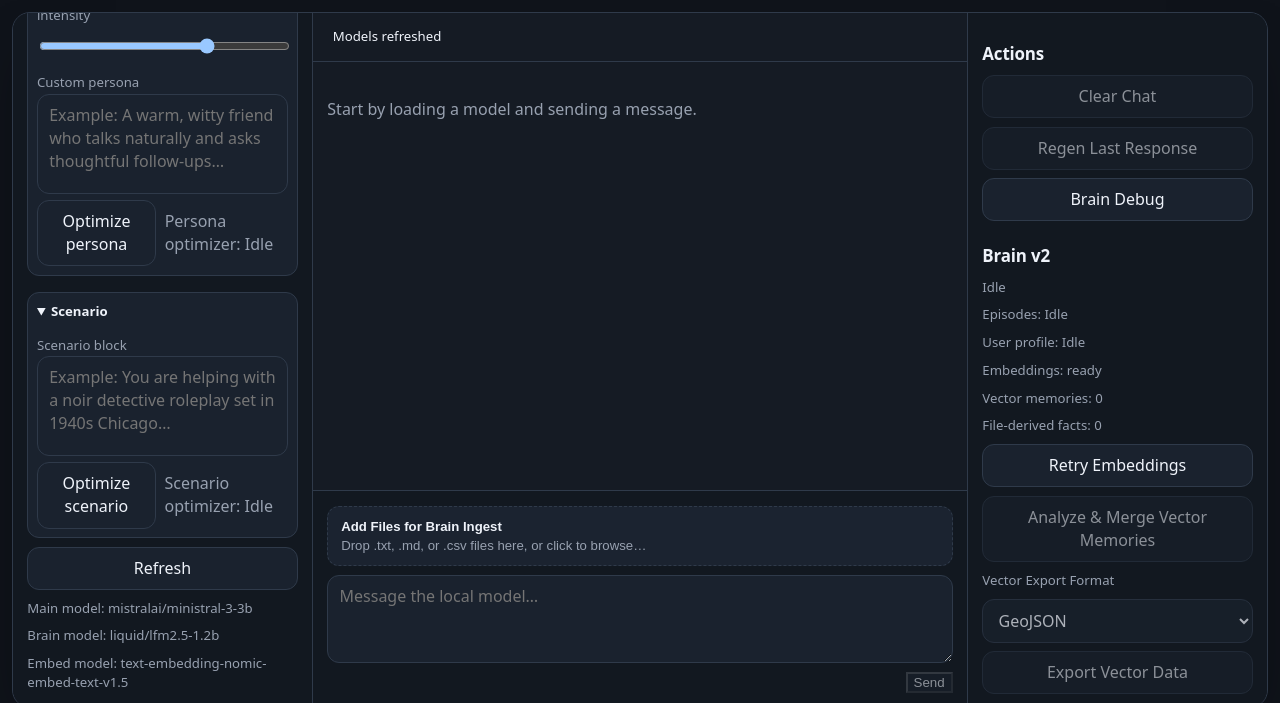
Test case: App › optimizes scenario block and applies accepted preview
(page scrolled)
Step 1. Replace the text in the text box labelled "Scenario block" with "You are in a fantasy tavern." → [163, 406], box [37,356,288,456]
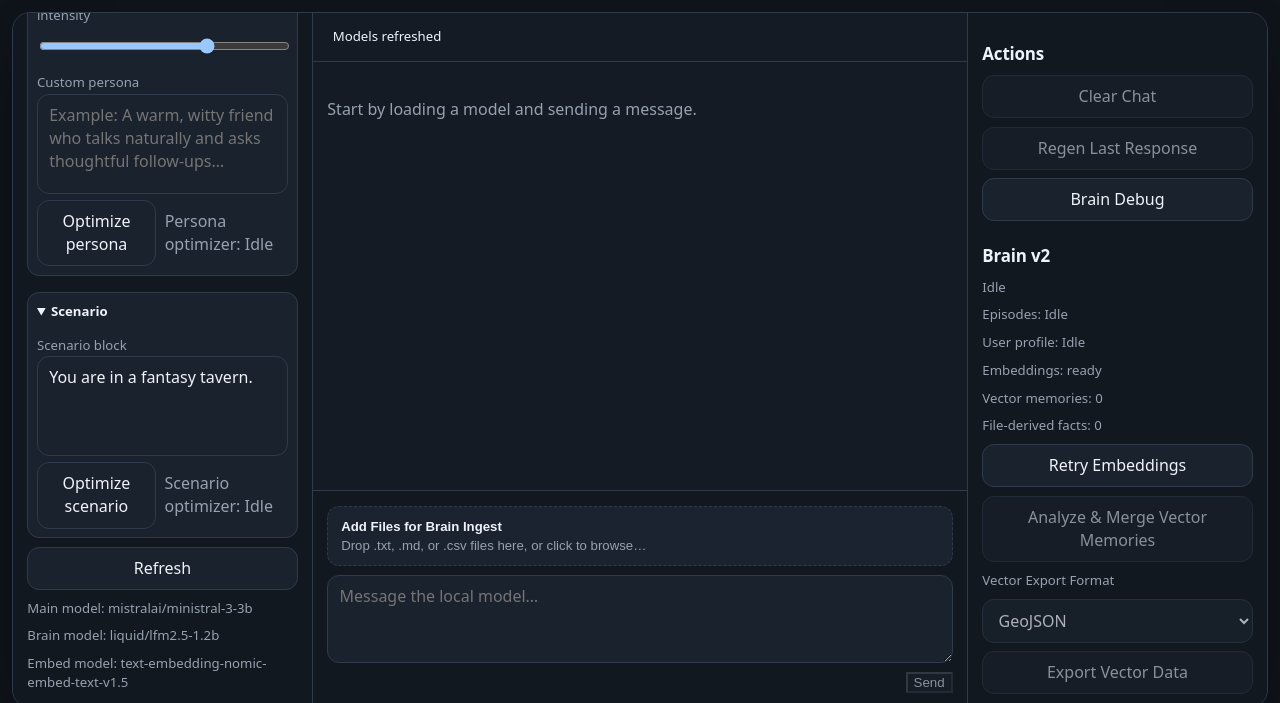
Step 2. Click the button "Optimize scenario" → [96, 495], box [37,462,156,529]
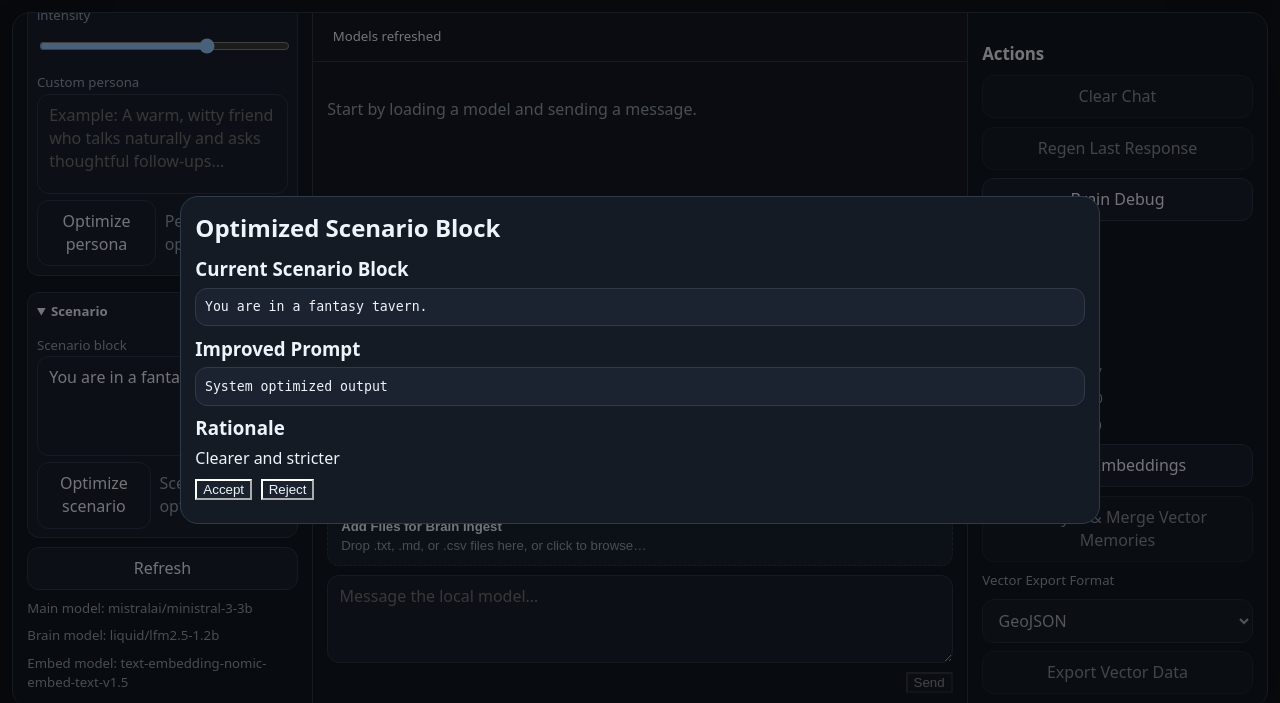
Check: the heading "Optimized Scenario Block" is shown, box [195,211,500,246]
Step 3. Click the button "Accept" → [224, 489], box [195,479,252,500]
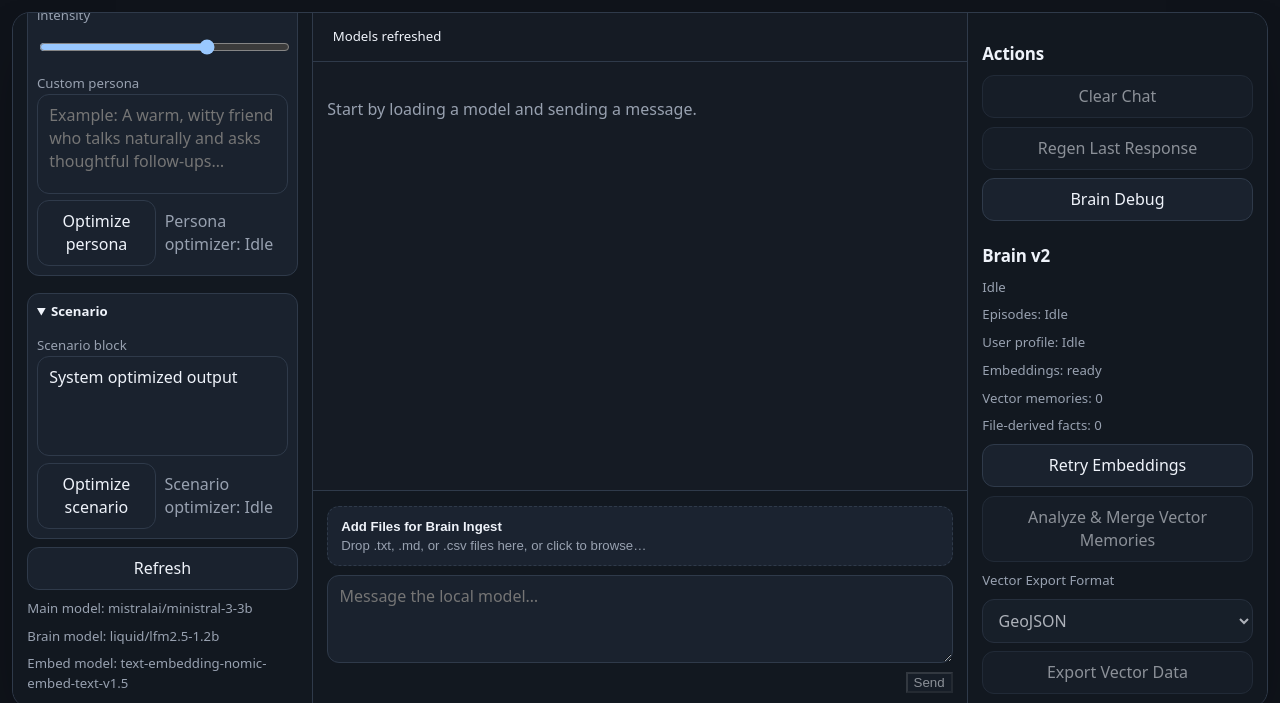
Check: the text box labelled "Scenario block" holds "System optimized output", box [37,356,288,456]
